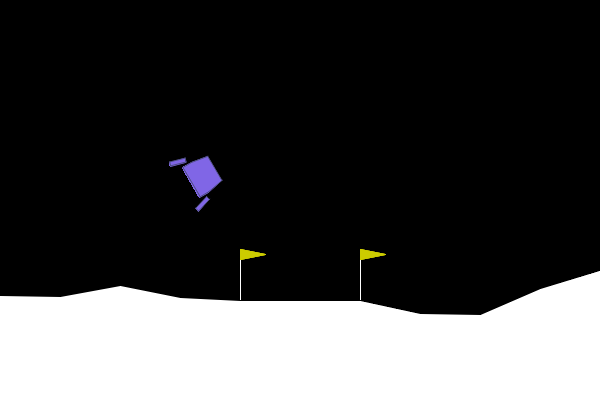lander: (167, 142, 231, 214)
